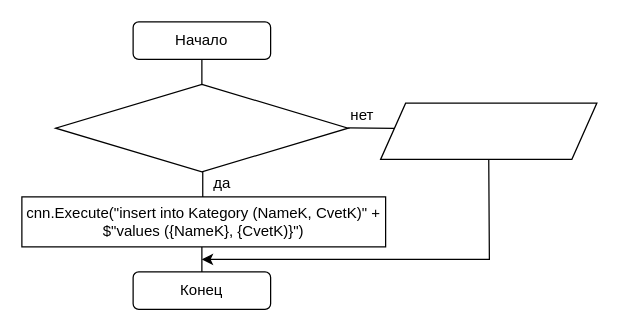
The diagram is 619 pixels wide and 331 high, and some of its shapes have lost their labels. The box of each missing label's shape, as (x1, y1, x2, y2) in pixels:
cnn = new SQLConnection(): (54, 83, 348, 172)
Вывести сообщение об ошибке: (379, 102, 597, 159)
